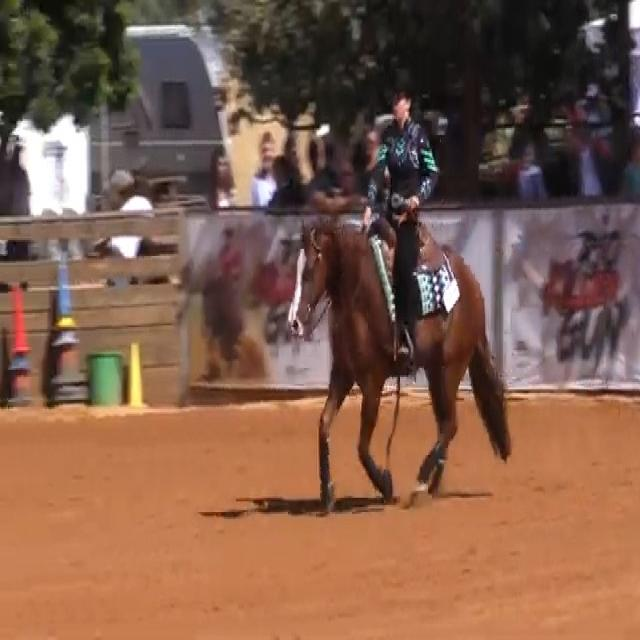horse: (286, 210, 513, 512)
